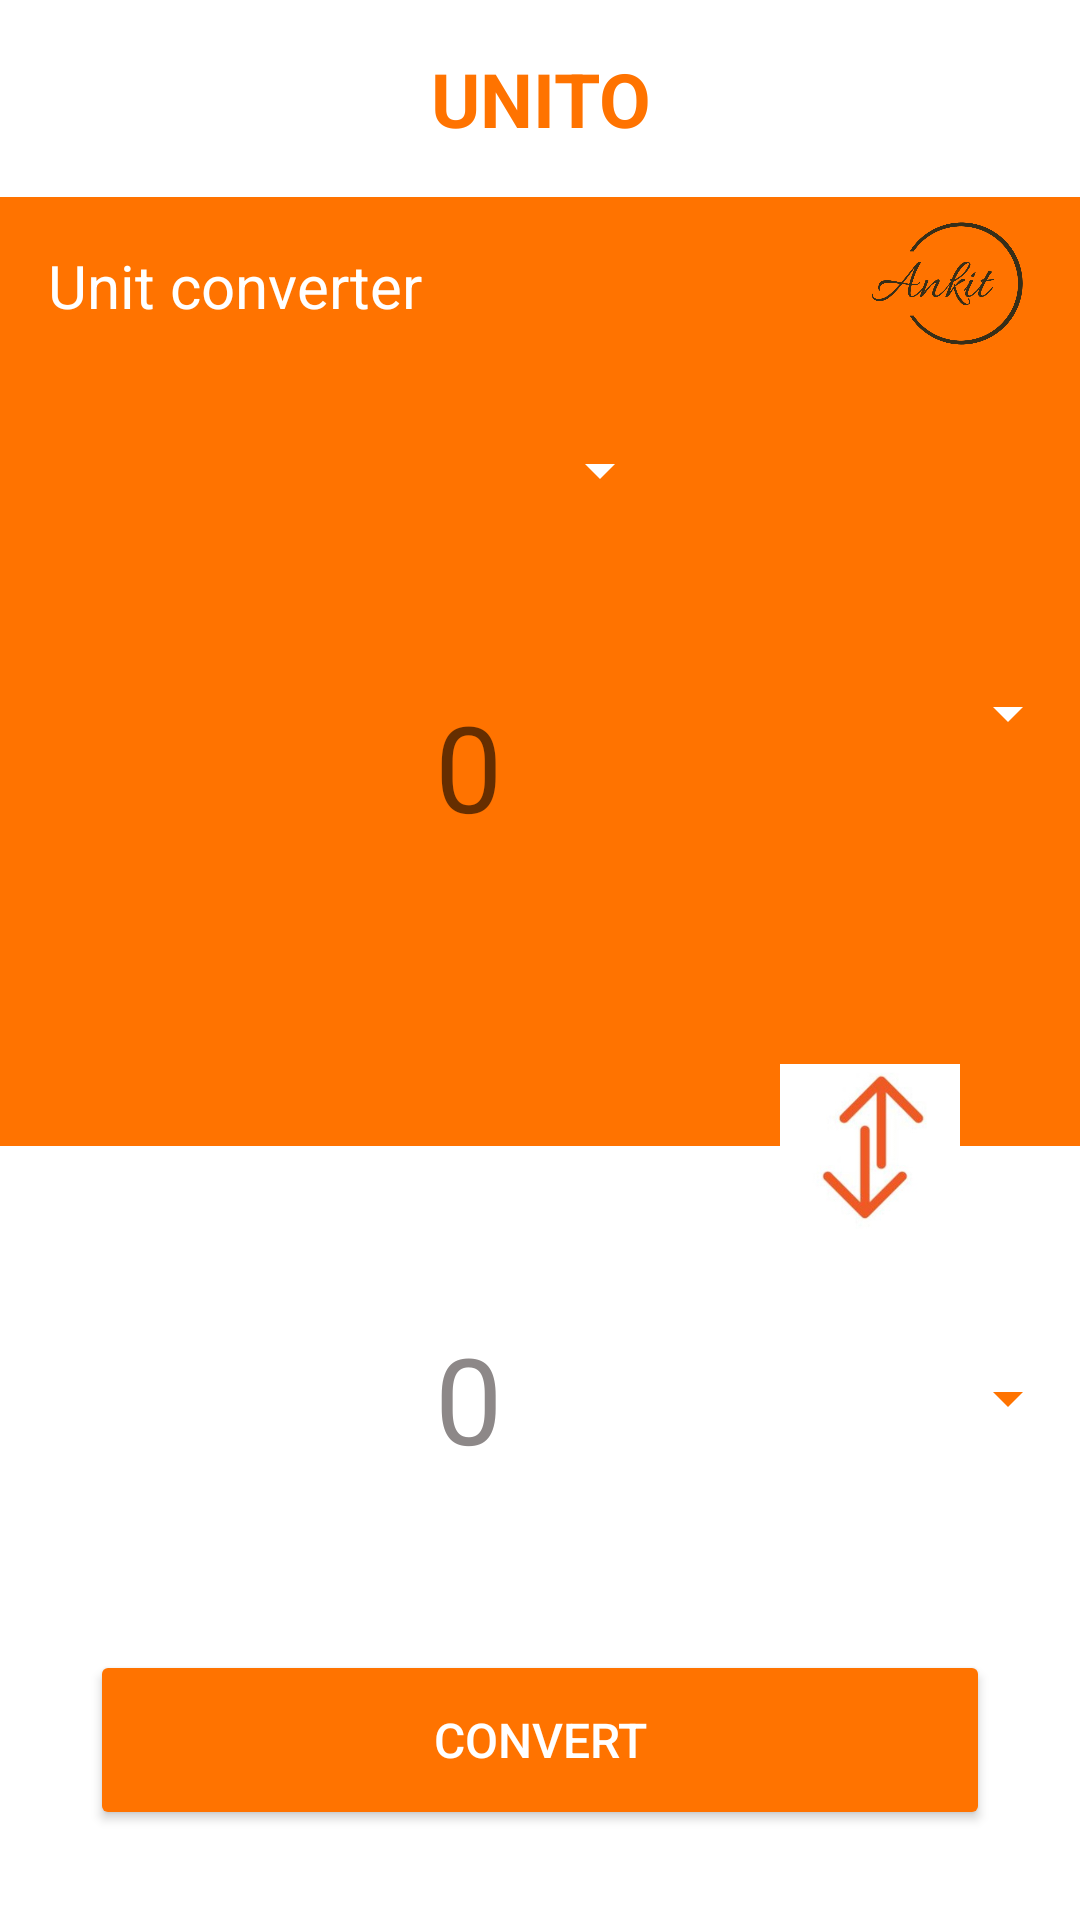

Named icons in this screenshot (1080 × 1920) and their centers, (x=x, y=y):
interchange botton: (x=870, y=1147)
